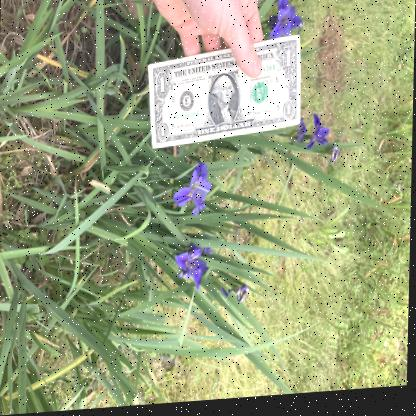one-front: (145, 36, 303, 149)
